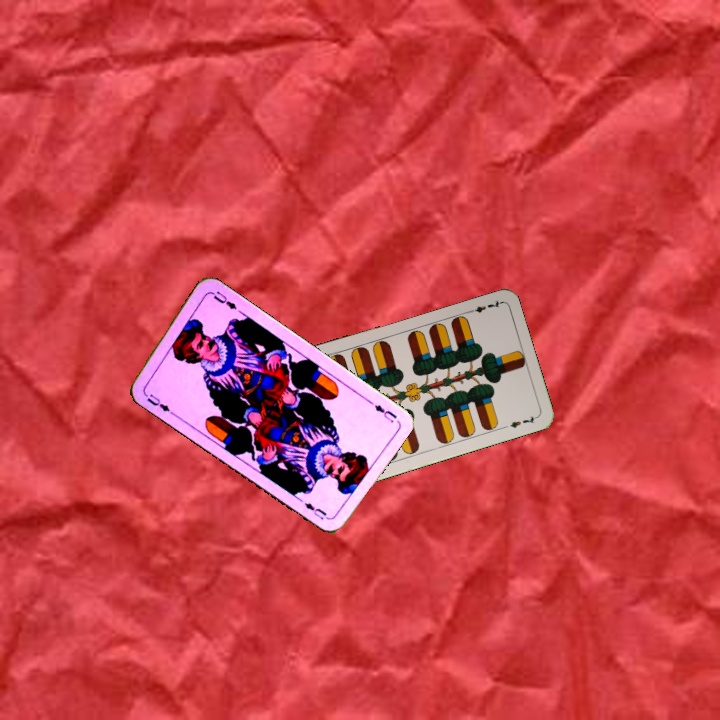E7: (463, 296, 503, 316)
EU: (143, 390, 175, 416), (370, 400, 400, 426)
